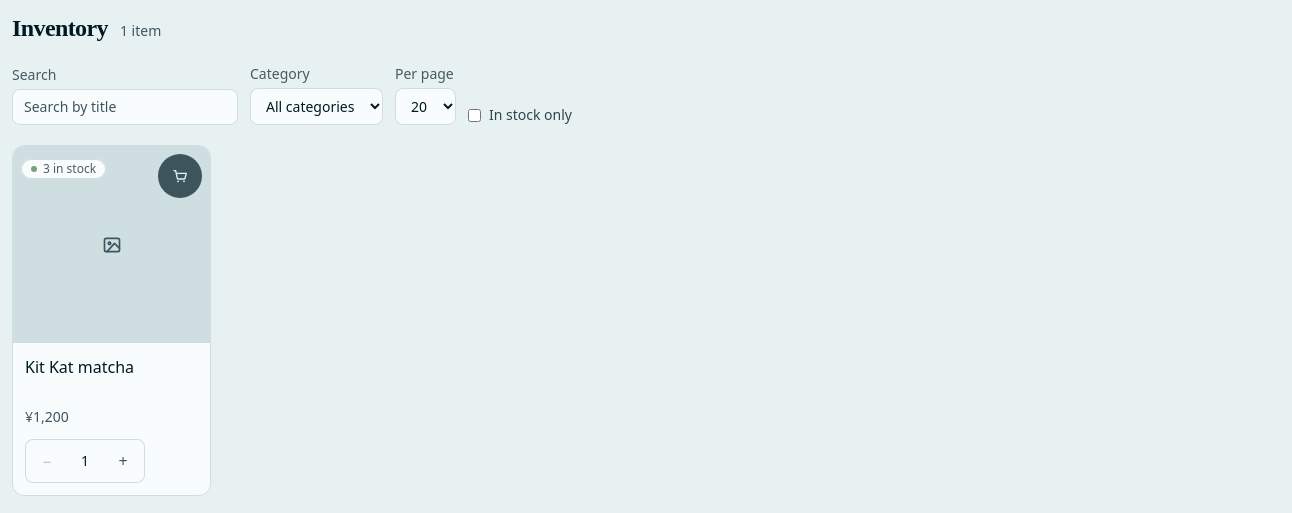
Test: InventoryPage › offers Clear filters when a search matches nothing
Expected: the text "Kit Kat matcha" is shown, [25,356,134,378]
In the search field labelled "Search": coordinates (125, 107) [12,89,238,125], type "zzz"
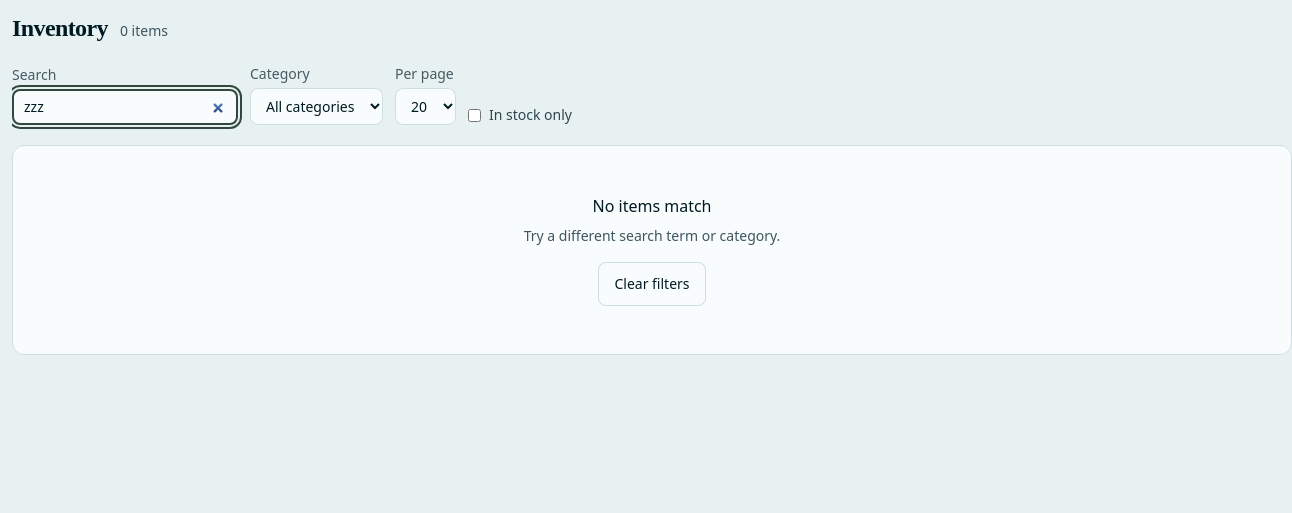
Click the button "Clear filters": coordinates (652, 284) [598,262,706,306]
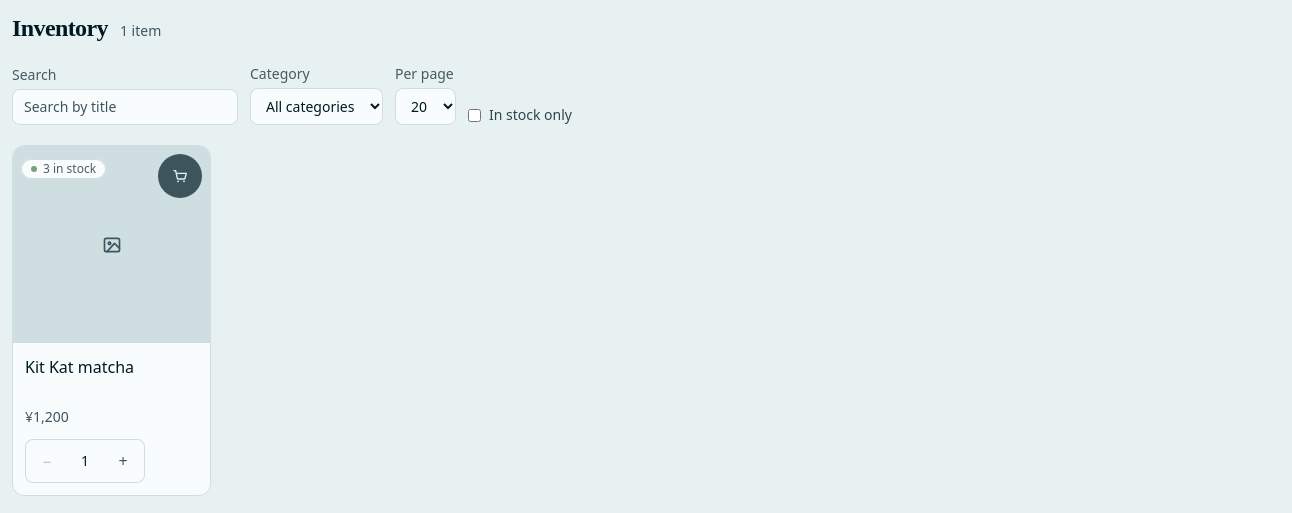
Expected: the text "Kit Kat matcha" is shown, [25,356,134,378]
Expected: the search field labelled "Search" is empty, [12,89,238,125]
